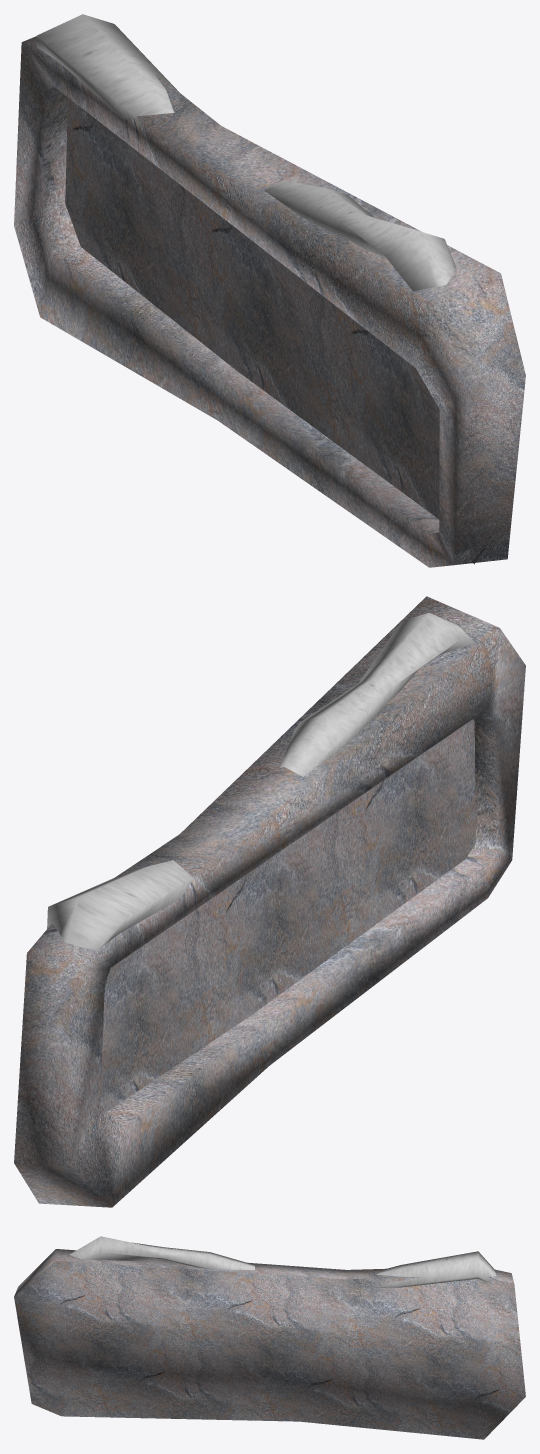
The model's file is adScreen_LOD160.glb.
The picture shows the model from 3 angles, top to bottom: view 1: azimuth 30°, elevation 25°; view 2: azimuth 150°, elevation 25°; view 3: azimuth 270°, elevation 25°; orthographic projection. The views are drawn at different scales.
Parts seen in each view (by area): view 1: rock_mountain.jpg__, snowroad.jpg__; view 2: rock_mountain.jpg__, snowroad.jpg__; view 3: rock_mountain.jpg__, snowroad.jpg__.
Boxes of the visible parts, x1,y1,x2,y2 form: rock_mountain.jpg__: [14, 36, 525, 567]; snowroad.jpg__: [36, 14, 456, 291]; rock_mountain.jpg__: [14, 596, 525, 1207]; snowroad.jpg__: [47, 612, 474, 951]; rock_mountain.jpg__: [14, 1249, 525, 1439]; snowroad.jpg__: [69, 1236, 496, 1287].
Size of the model in its own units: 1.9 by 7.72 by 18.67.
2 materials, 2 textured.
